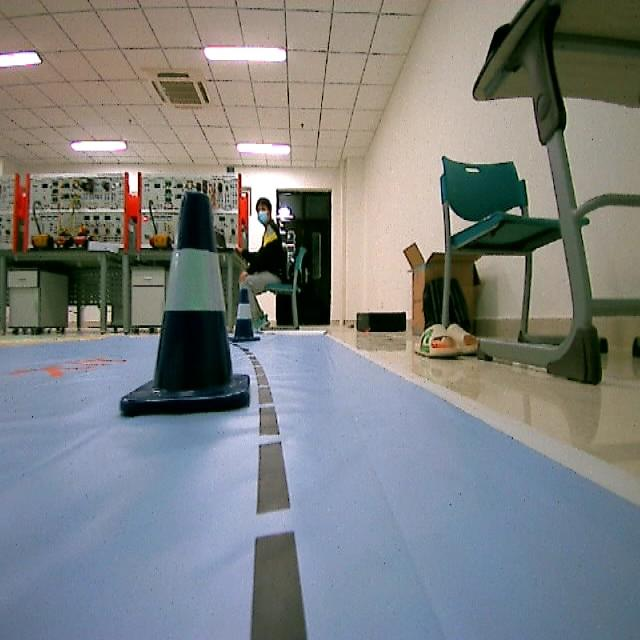obstacle: (116, 188, 247, 414), (233, 288, 256, 346)
